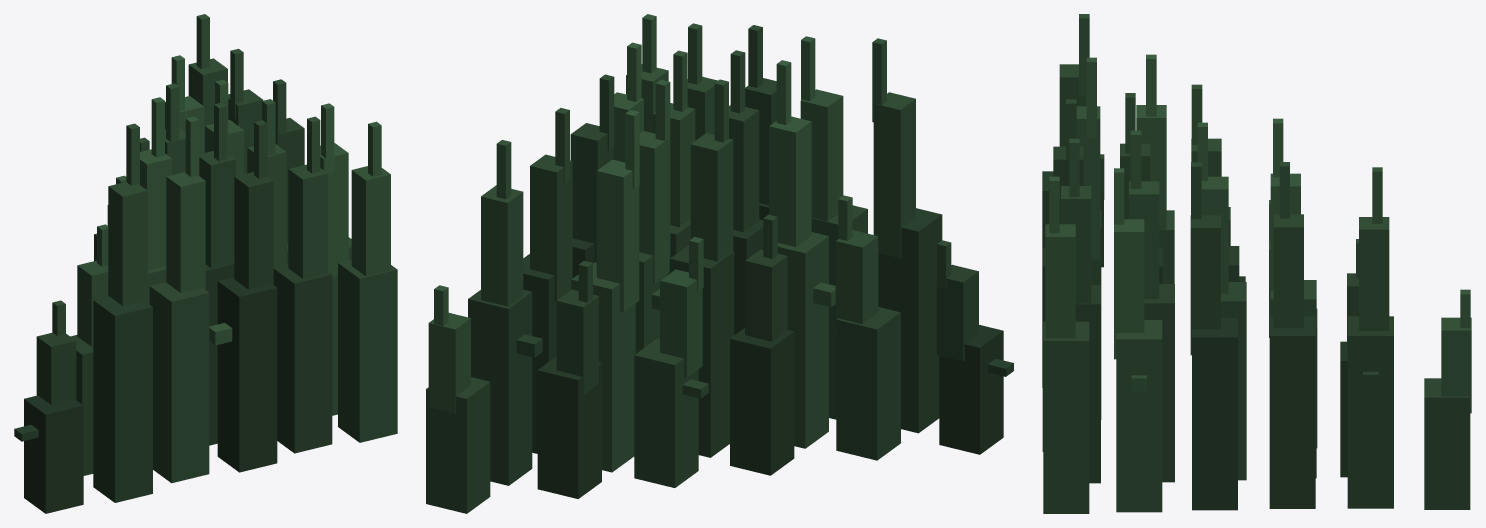
Rendered from CMU3DTallJungleGrassCorner.glb.
3 views of the same model, side by side, from view 1: azimuth 30°, elevation 25°; view 2: azimuth 150°, elevation 25°; view 3: azimuth 270°, elevation 25° (orthographic). The views are drawn at different scales.
Visible parts, largest first — view 1: grass blade base (×9), leaning grass blade (×17), narrow blade tip (×16), outward grass leaf; view 2: grass blade base (×15), leaning grass blade (×21), narrow blade tip (×17); view 3: grass blade base (×15), leaning grass blade (×17), narrow blade tip (×15).
Boxes of the visible parts, x1=… form: grass blade base (×9): x1=24, y1=237, x2=397, y2=513; leaning grass blade (×17): x1=36, y1=58, x2=390, y2=404; narrow blade tip (×16): x1=52, y1=14, x2=381, y2=335; outward grass leaf: x1=209, y1=323, x2=232, y2=345; grass blade base (×15): x1=426, y1=205, x2=1003, y2=513; leaning grass blade (×21): x1=428, y1=64, x2=978, y2=413; narrow blade tip (×17): x1=496, y1=14, x2=886, y2=291; grass blade base (×15): x1=1042, y1=171, x2=1470, y2=513; leaning grass blade (×17): x1=1045, y1=64, x2=1471, y2=413; narrow blade tip (×15): x1=1049, y1=14, x2=1382, y2=233.
Size of the model in its own units: 1.02 by 0.944 by 0.9877.
